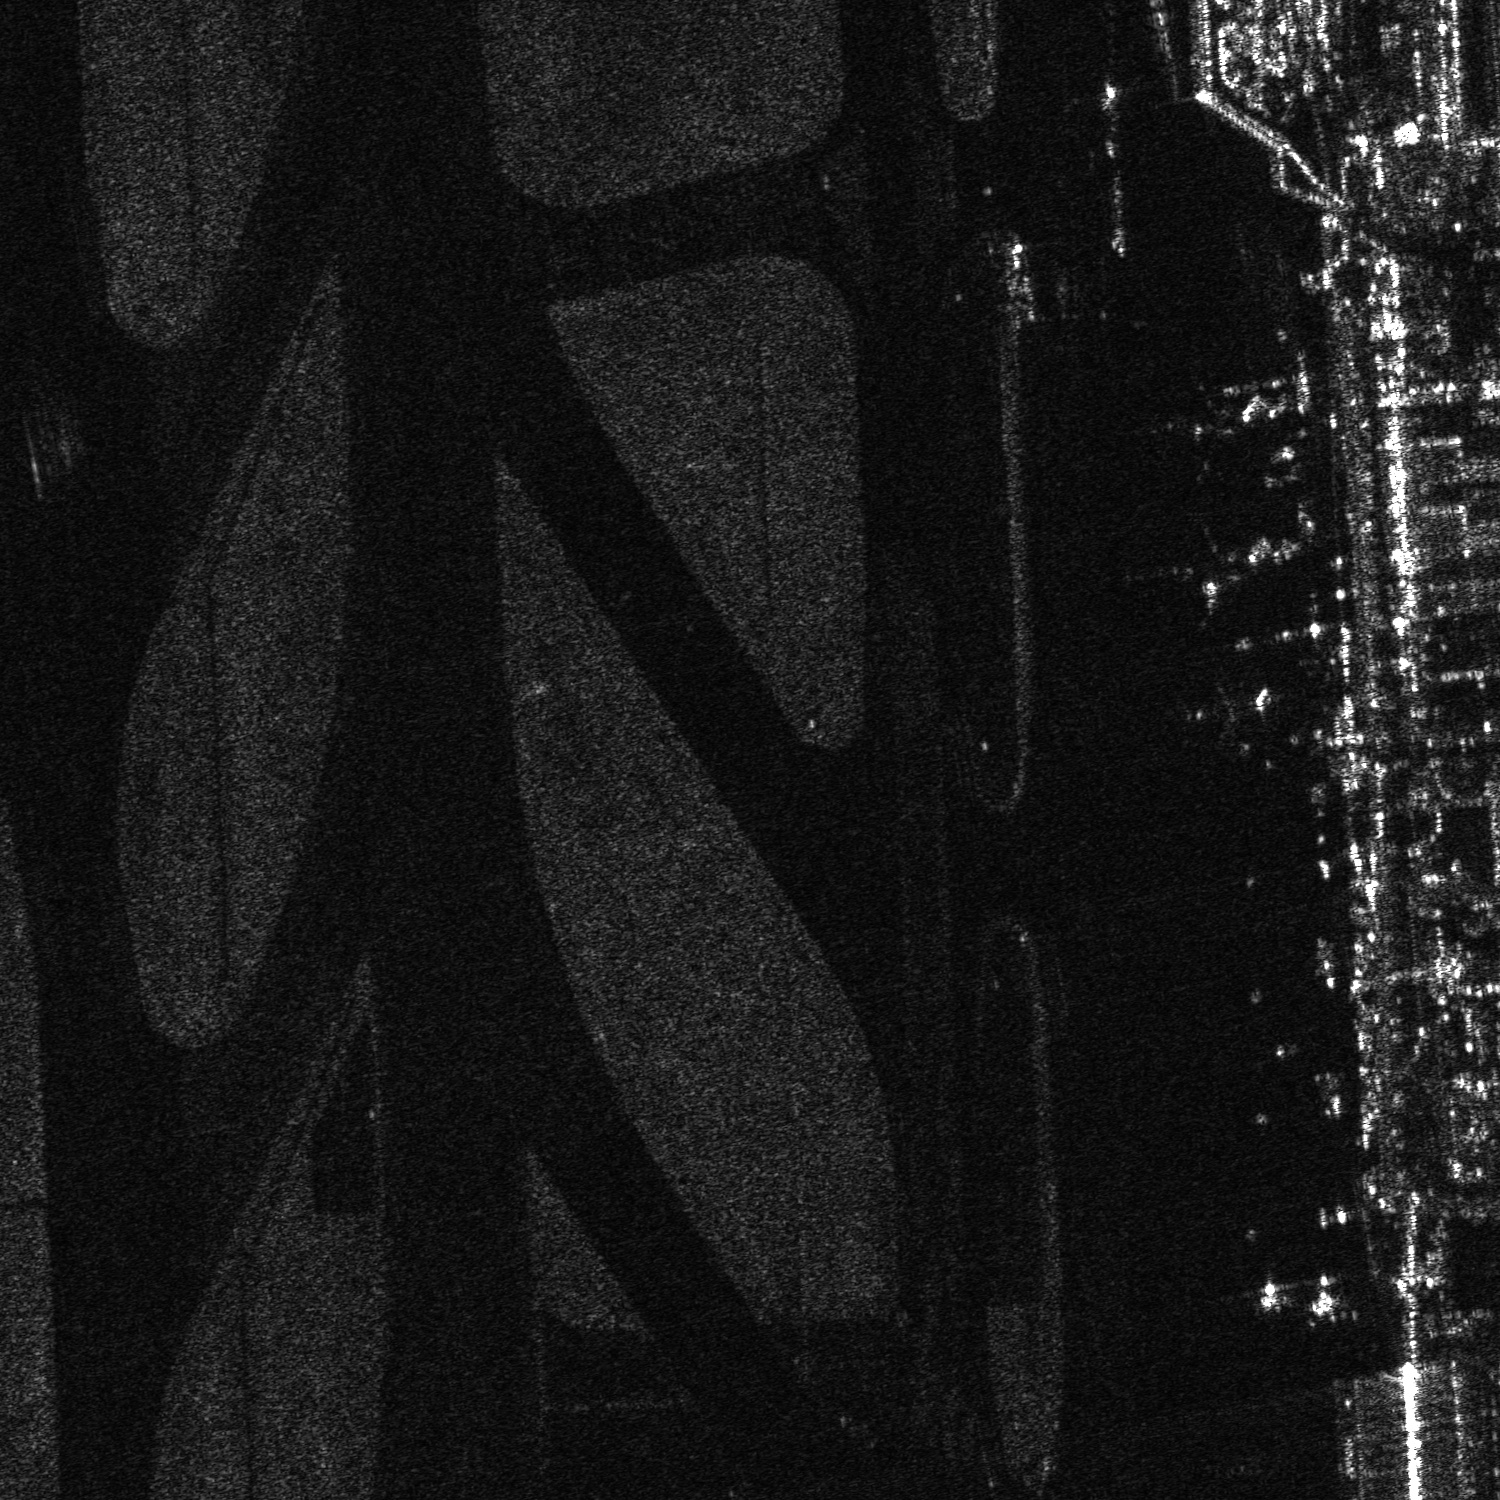ARJ21: (1162, 511, 1323, 620)
other: (1194, 341, 1326, 466), (1184, 681, 1271, 750)
